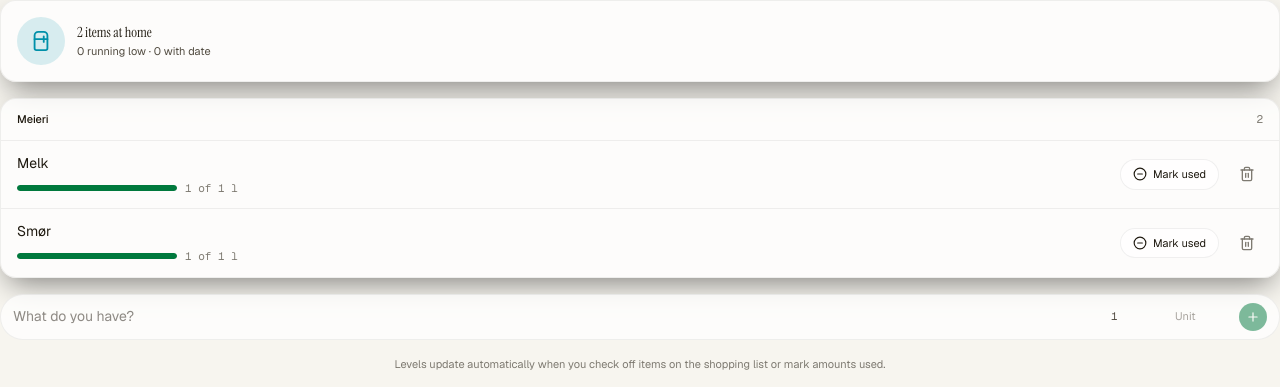
Test: PantryView — delete flow › clicking delete sends DELETE request and removes the row
This screenshot has width=1280, height=387.
Click the button with test id "pantry-delete" at (1247, 174), box [1231,158,1263,190]
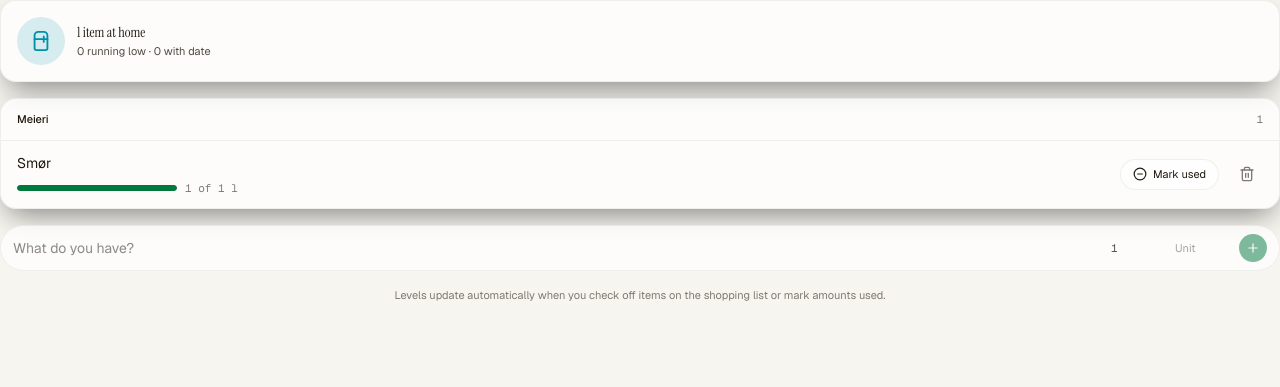
Check: the number of list items with test id "pantry-item" is 1, box [1,140,1279,208]
